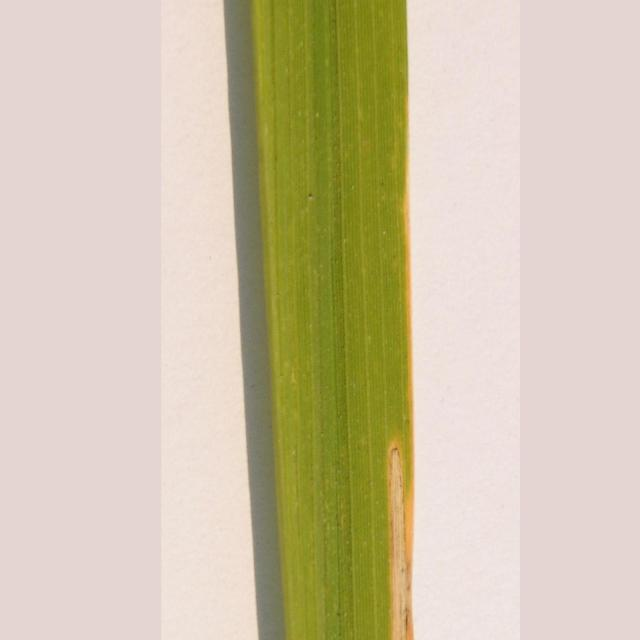Bacterial leaf blight: (194, 0, 450, 640)
